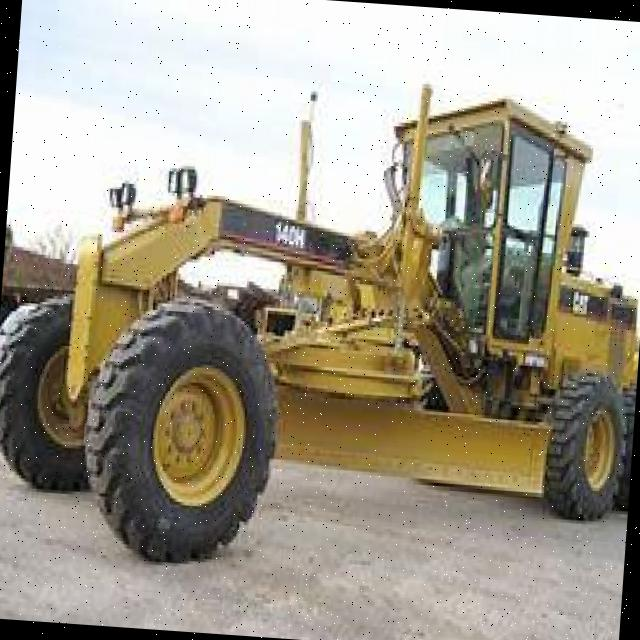Grader: (0, 14, 640, 590)
